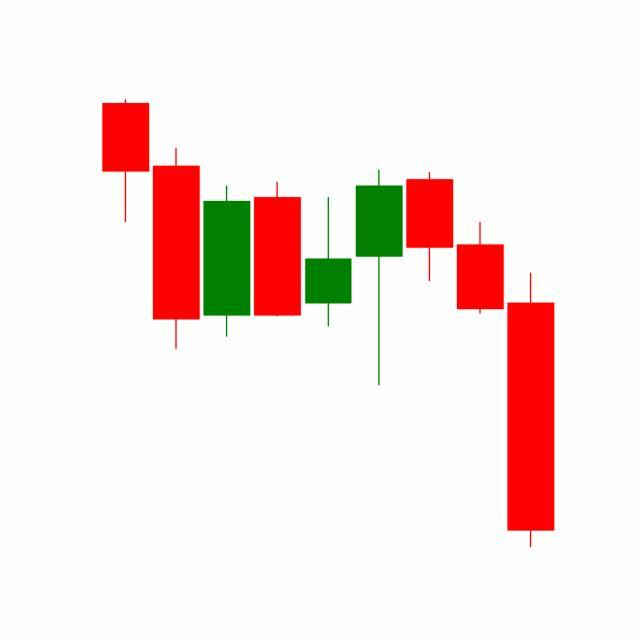Hikkake Pattern: (252, 167, 506, 389)
